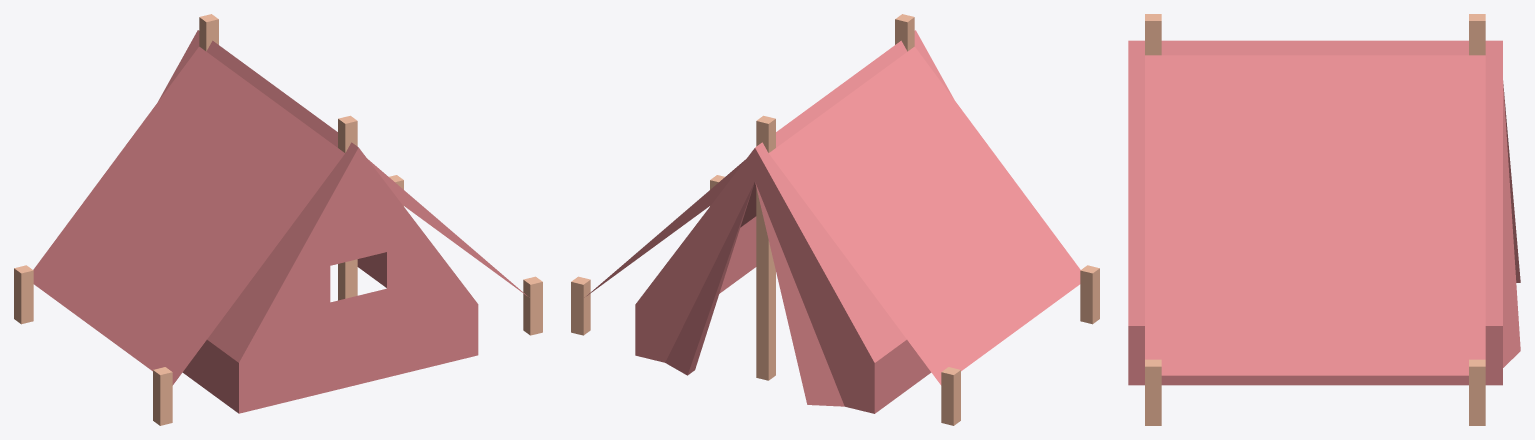
Rendered from tent_detailedOpen.glb.
3 views of the same model, side by side, from view 1: azimuth 30°, elevation 25°; view 2: azimuth 150°, elevation 25°; view 3: azimuth 270°, elevation 25° (orthographic). The views are drawn at different scales.
Parts seen in each view (by area): view 1: tent_detailedOpen; view 2: tent_detailedOpen; view 3: tent_detailedOpen.
Boxes of the visible parts, left/top/right/bottom form: tent_detailedOpen: left=14, top=14, right=542, bottom=425; tent_detailedOpen: left=571, top=14, right=1099, bottom=425; tent_detailedOpen: left=1128, top=14, right=1520, bottom=425.
Bounding box in the file's own units: 0.8749 × 0.5611 × 0.6665.
